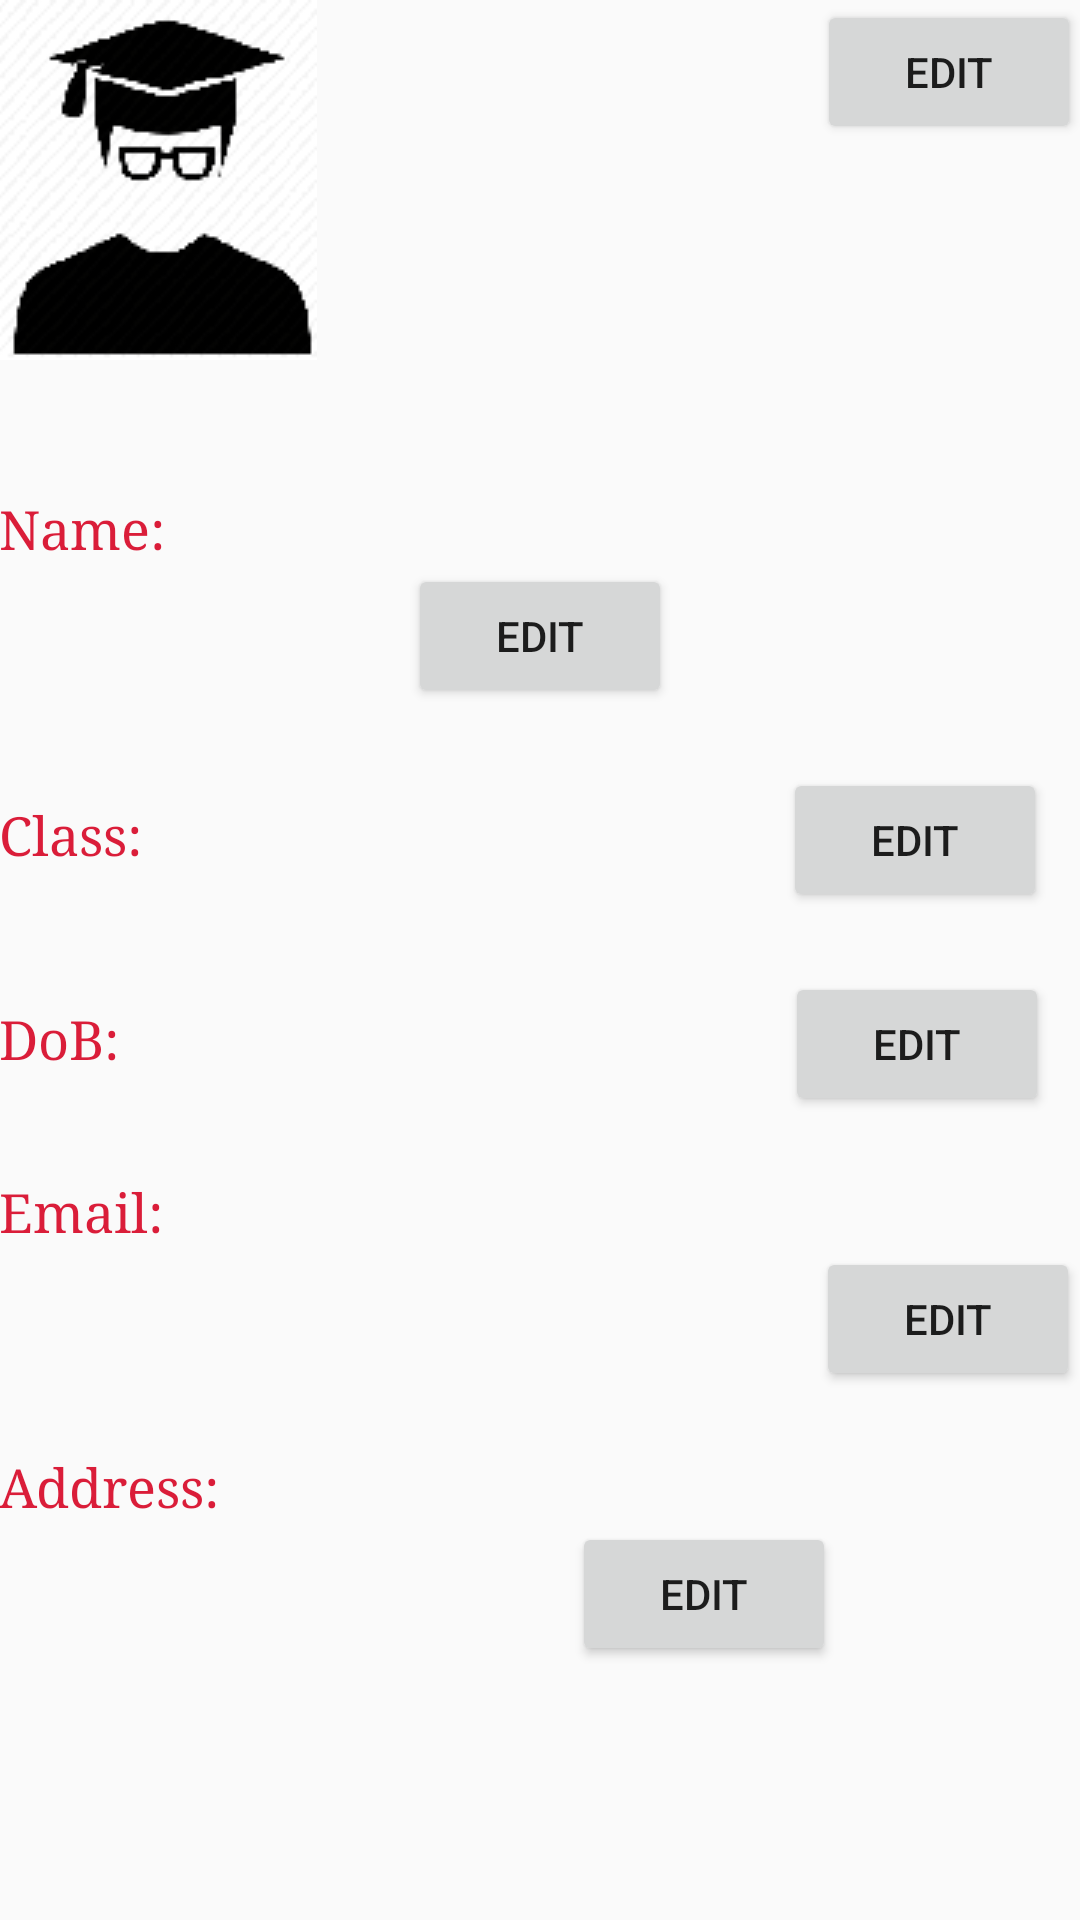

Icons on this 1080px x 1920px Android screen, each with the point to tap as point (x, y):
male student: point (162, 187)
